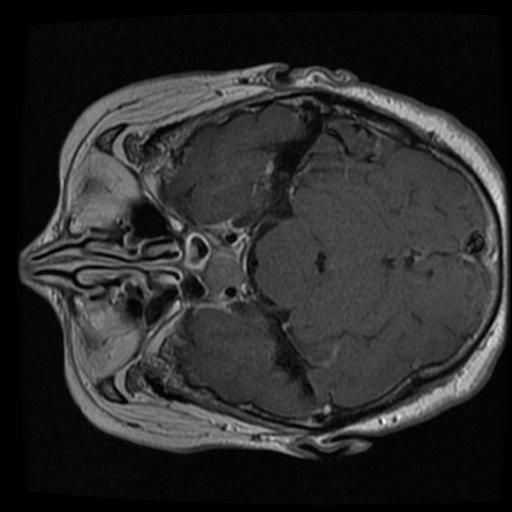pituitary tumour: (201, 247, 243, 289)
